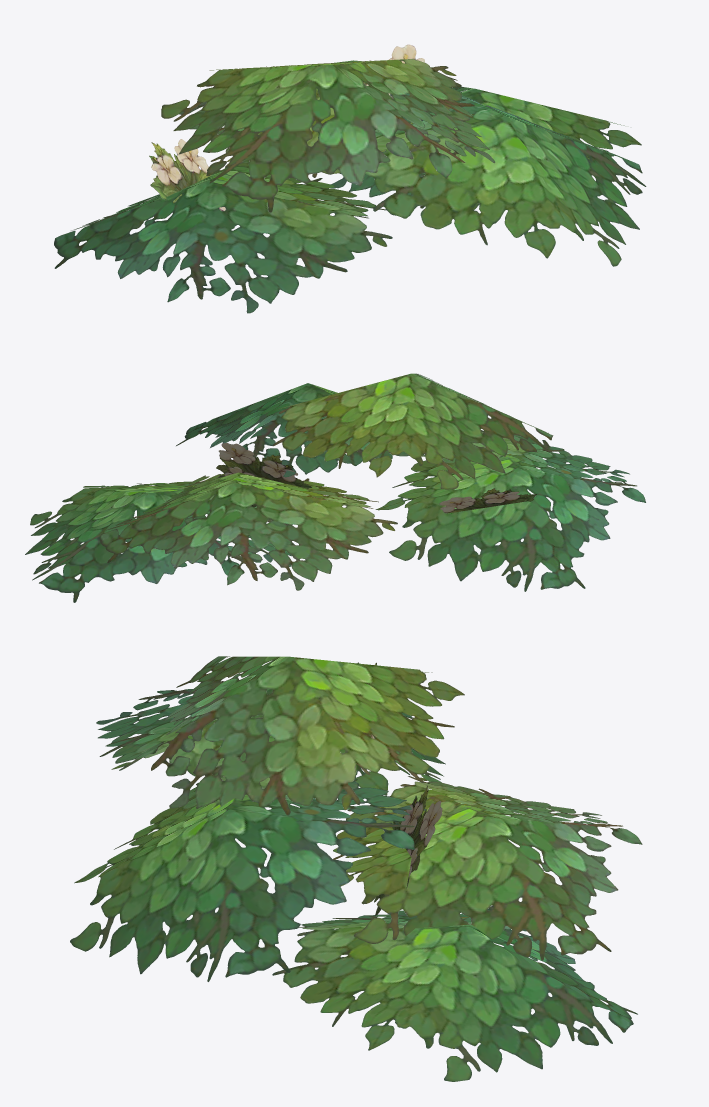
Rendered from Map_07_grass05.FBX.
The picture shows the model from 3 angles, top to bottom: view 1: azimuth 30°, elevation 25°; view 2: azimuth 150°, elevation 25°; view 3: azimuth 270°, elevation 25°; orthographic projection. The views are drawn at different scales.
Parts seen in each view (by area): view 1: Map_07_grass05; view 2: Map_07_grass05; view 3: Map_07_grass05.
Part boxes in pixels (box(x1,y1,x2,y2)): Map_07_grass05: box(54, 44, 646, 313); Map_07_grass05: box(25, 373, 645, 602); Map_07_grass05: box(70, 656, 642, 1081).
Bounding box in the file's own units: 339 × 110 × 283.
1 material, 1 textured.
